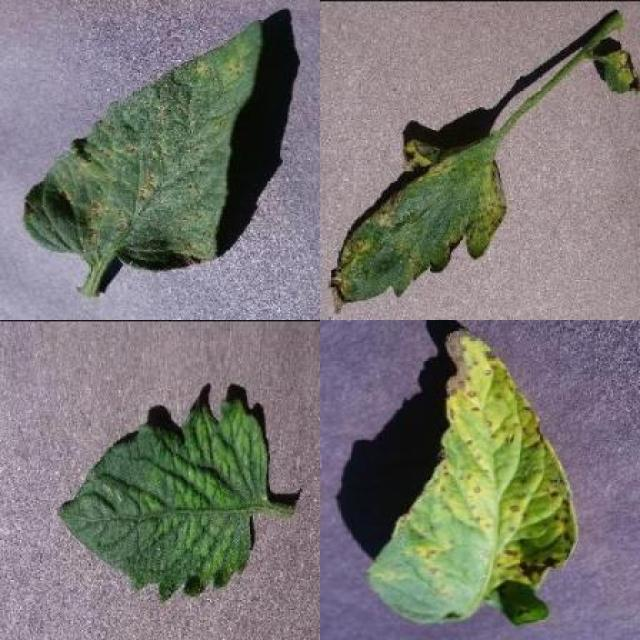Mosaic Virus: (59, 397, 268, 603)
Septoria: (366, 329, 578, 624), (21, 17, 262, 273), (327, 127, 507, 312)
